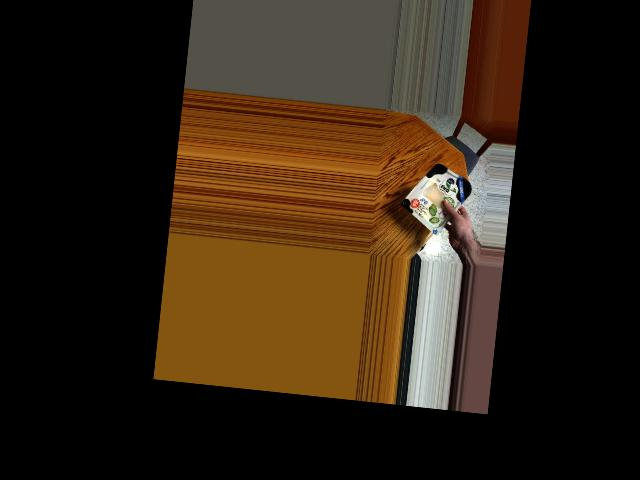cheese: (404, 163, 477, 227)
